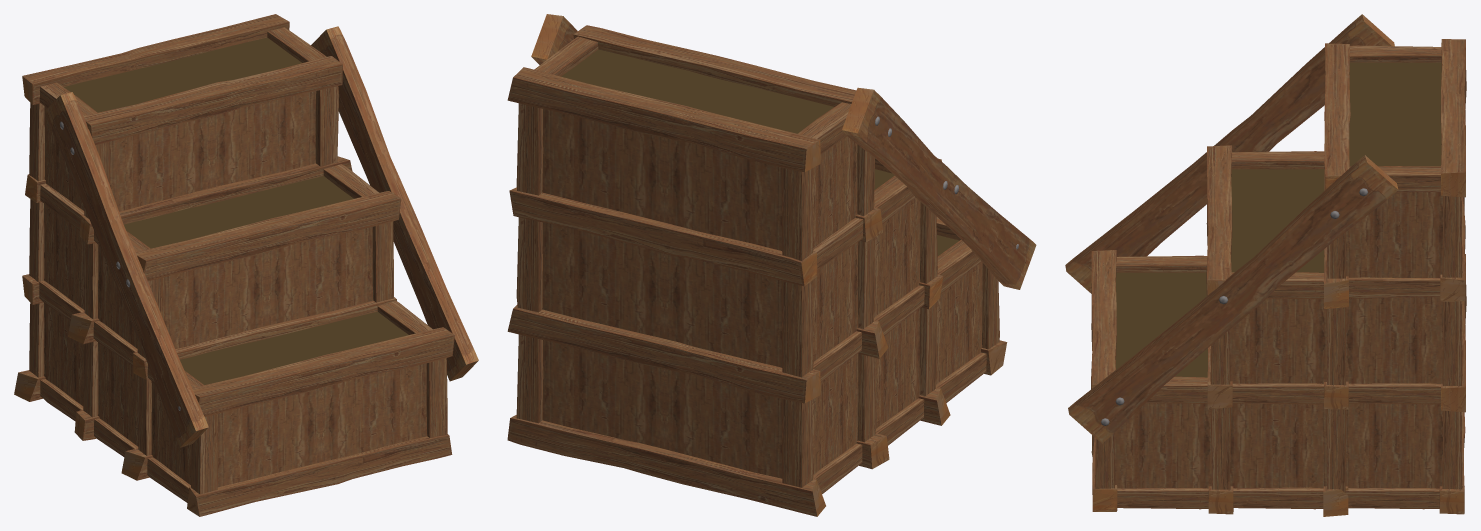
Rendered from SM_Farm_Planter_02.fbx.
3 renders of one model, left to right at view 1: azimuth 30°, elevation 25°; view 2: azimuth 150°, elevation 25°; view 3: azimuth 270°, elevation 25°, orthographic. The views are drawn at different scales.
Parts seen in each view (by area): view 1: SM_Farm_Planter_02_LOD0; view 2: SM_Farm_Planter_02_LOD0; view 3: SM_Farm_Planter_02_LOD0.
Boxes of the visible parts, x1,y1,x2,y2 form: SM_Farm_Planter_02_LOD0: [14, 14, 478, 516]; SM_Farm_Planter_02_LOD0: [507, 14, 1036, 516]; SM_Farm_Planter_02_LOD0: [1065, 14, 1466, 516].
Bounding box in the file's own units: 135 × 151 × 152.
